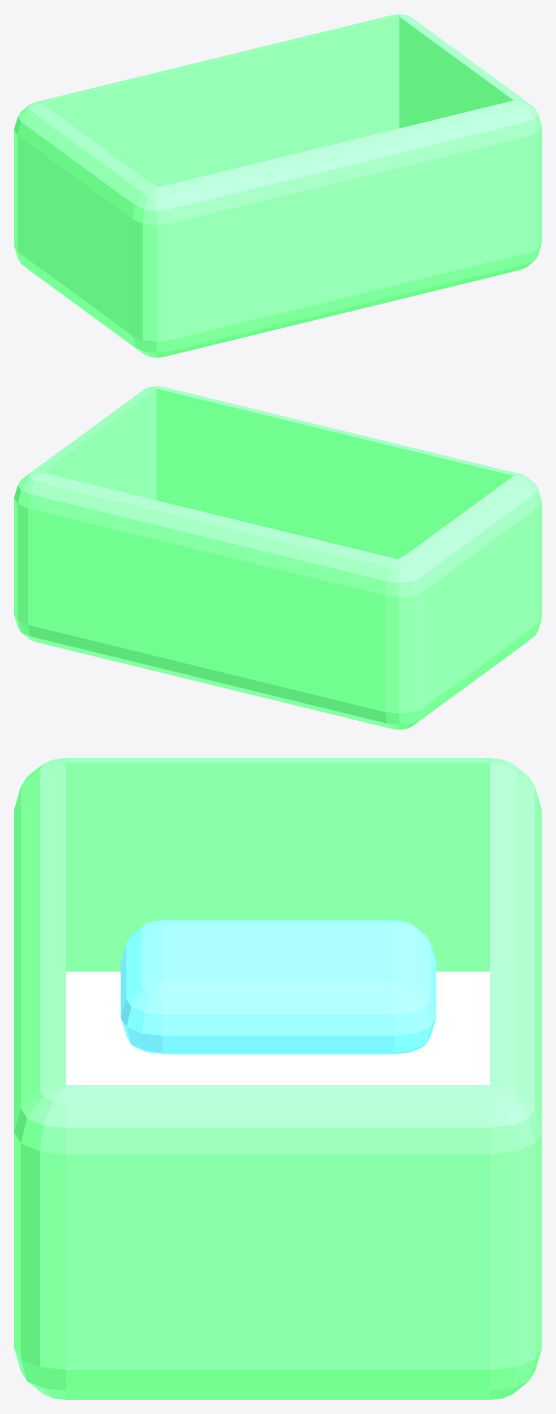
The model's file is Bed.fbx.
3 views of the same model, one above another, from view 1: azimuth 30°, elevation 25°; view 2: azimuth 150°, elevation 25°; view 3: azimuth 270°, elevation 25° (orthographic). The views are drawn at different scales.
Parts seen in each view (by area): view 1: Cube_2; view 2: Cube_2; view 3: Cube_2.
Part boxes in pixels (x1=…): Cube_2: x1=14, y1=14, x2=541, y2=357; Cube_2: x1=14, y1=386, x2=541, y2=729; Cube_2: x1=14, y1=758, x2=541, y2=1399.
Size of the model in its own units: 499 by 197 by 304.
